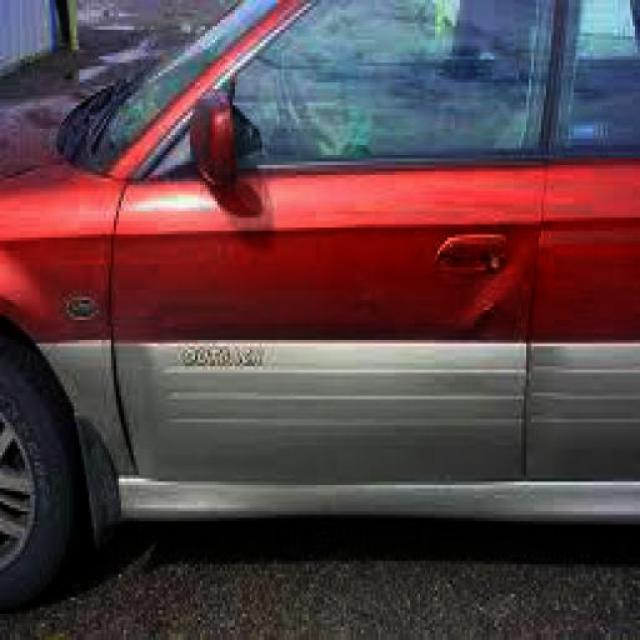car damage: (460, 226, 543, 333)
